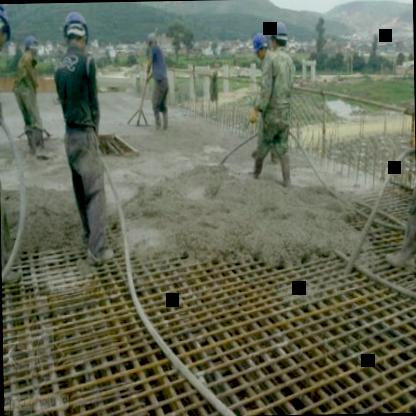helmet: (62, 10, 89, 52), (249, 28, 270, 66), (271, 16, 289, 58), (23, 32, 40, 63), (0, 3, 8, 47)
